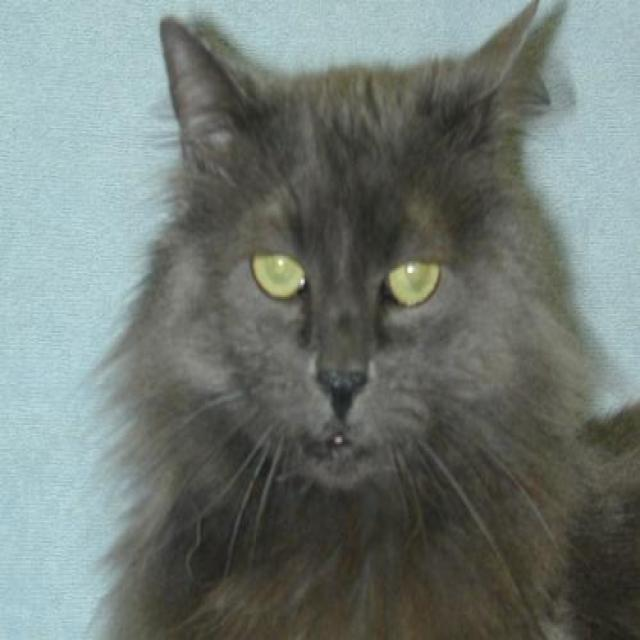Cats: (79, 0, 638, 638)
